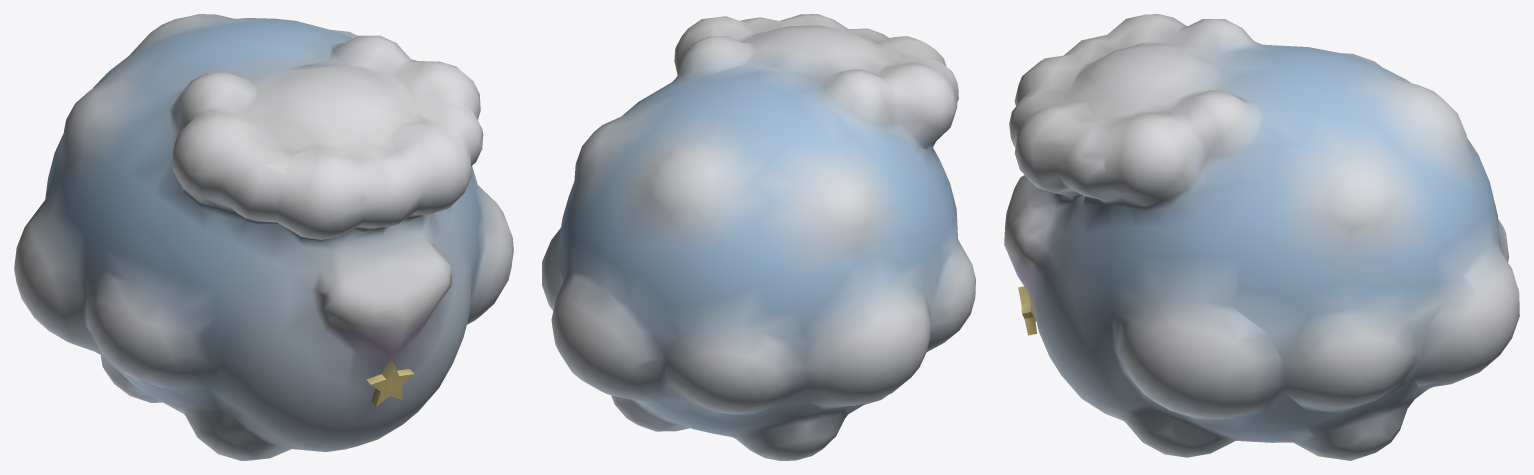
The model's file is air-body.glb.
3 renders of one model, left to right at view 1: azimuth 30°, elevation 25°; view 2: azimuth 150°, elevation 25°; view 3: azimuth 270°, elevation 25°, orthographic. The views are drawn at different scales.
Parts seen in each view (by area): view 1: air-body; view 2: air-body; view 3: air-body.
Part boxes in pixels (<box>): air-body: <box>14,14,513,460</box>; air-body: <box>542,14,975,460</box>; air-body: <box>1004,14,1519,460</box>.
Size of the model in its own units: 0.4325 by 0.3745 by 0.48.
